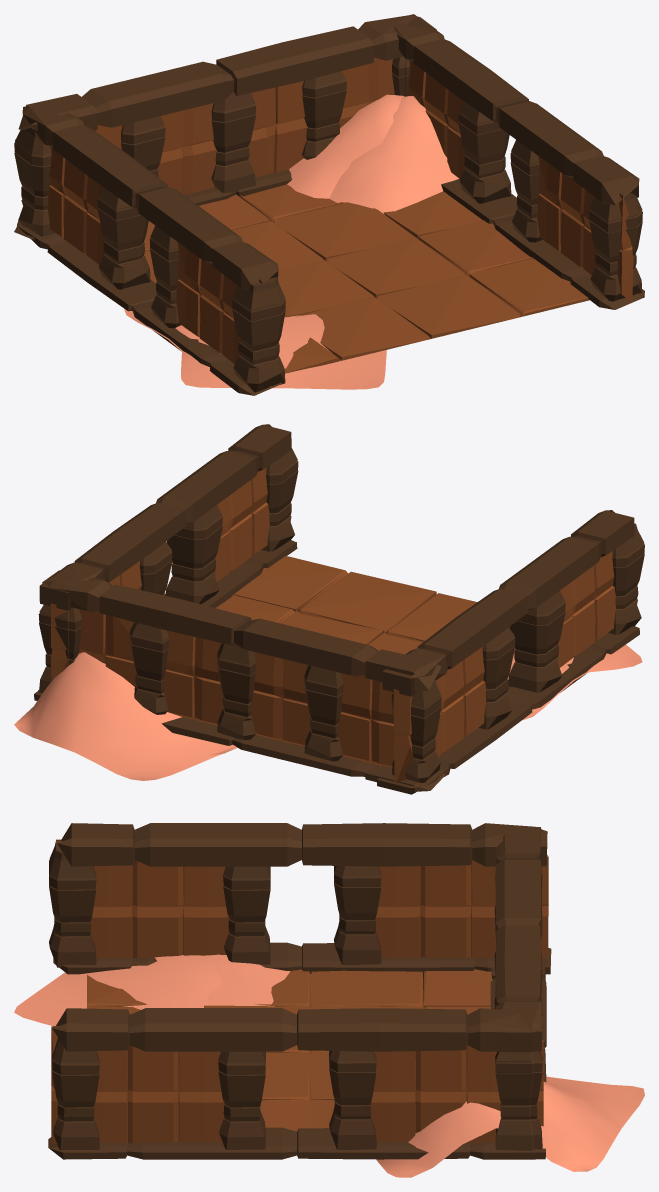
Rendered from BothSides.fbx.
3 renders of one model, top to bottom at view 1: azimuth 30°, elevation 25°; view 2: azimuth 150°, elevation 25°; view 3: azimuth 270°, elevation 25°, orthographic. The views are drawn at different scales.
Parts seen in each view (by area): view 1: floor.001, TopStone.003, TopStone.005, TopStone.006, WallMain.003, Sand.003, WallMain.004, Plane.001, wall.006, Pillar.001, WallMain.006, Plane.003 (+13 smaller); view 2: WallMain.003, floor.001, Plane.003, TopStone.003, TopStone.006, TopStone.005, WallMain.007, wall.006, WallMain.006, Pillar.029, Pillar.026, WallMain.004 (+14 smaller); view 3: TopStone.005, TopStone.006, floor.001, WallMain.006, WallMain.004, WallMain.007, WallMain.005, TopStone.003, wall.005, Plane.001, Plane.003, wall.006 (+11 smaller).
Boxes of the visible parts, left/top/right/bottom form: floor.001: left=144, top=184, right=589, bottom=373; TopStone.003: left=18, top=15, right=436, bottom=130; TopStone.005: left=391, top=14, right=639, bottom=205; TopStone.006: left=22, top=106, right=278, bottom=289; WallMain.003: left=95, top=57, right=394, bottom=194; Sand.003: left=329, top=96, right=458, bottom=214; WallMain.004: left=537, top=156, right=633, bottom=301; Plane.001: left=181, top=314, right=386, bottom=389; wall.006: left=17, top=220, right=282, bottom=395; Pillar.001: left=232, top=277, right=285, bottom=392; WallMain.006: left=176, top=242, right=271, bottom=387; Plane.003: left=287, top=94, right=404, bottom=198; WallMain.003: left=78, top=609, right=394, bottom=767; floor.001: left=215, top=556, right=509, bottom=776; Plane.003: left=14, top=652, right=237, bottom=780; TopStone.003: left=42, top=570, right=441, bottom=690; TopStone.006: left=382, top=510, right=634, bottom=696; TopStone.005: left=39, top=424, right=291, bottom=610; WallMain.007: left=393, top=647, right=486, bottom=782; wall.006: left=377, top=626, right=639, bottom=794; WallMain.006: left=558, top=551, right=616, bottom=667; Pillar.029: left=508, top=590, right=565, bottom=692; Pillar.026: left=165, top=505, right=222, bottom=604; WallMain.004: left=215, top=467, right=269, bottom=581; TopStone.005: left=52, top=1008, right=542, bottom=1051; TopStone.006: left=57, top=823, right=547, bottom=866; floor.001: left=87, top=969, right=492, bottom=1131; WallMain.006: left=56, top=841, right=229, bottom=958; WallMain.004: left=51, top=1026, right=224, bottom=1144; WallMain.007: left=375, top=855, right=548, bottom=958; WallMain.005: left=371, top=1040, right=543, bottom=1143; TopStone.003: left=495, top=826, right=541, bottom=1052; wall.005: left=48, top=1127, right=545, bottom=1159; Plane.001: left=14, top=955, right=221, bottom=1025; Plane.003: left=541, top=1076, right=644, bottom=1171; wall.006: left=53, top=942, right=551, bottom=974.
Bounding box in the file's own units: 4906 × 1456 × 5698.
